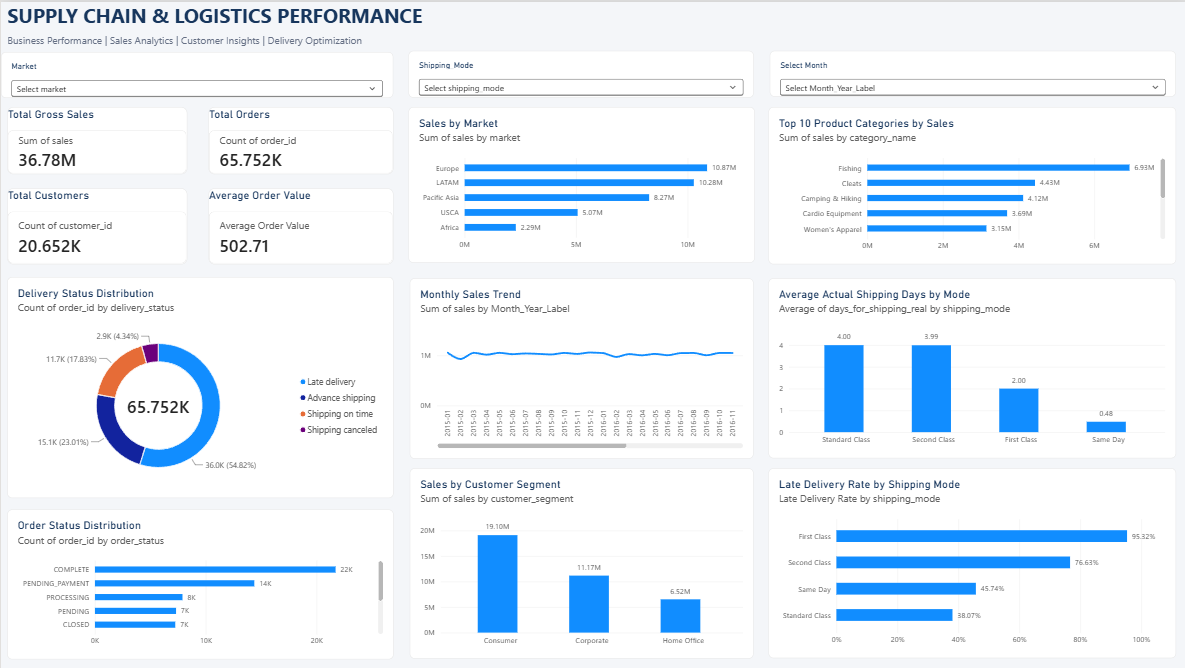

The dashboard page shown, as its layout file describes it:
{"tool":"powerbi","page":{"name":"Executive Overview","canvas":[1920,1080],"ordinal":0},"visuals":[{"type":"textbox","box":[10.3,0,681.3,51.5],"z":0},{"type":"textbox","box":[10.3,51.5,580.4,28.8],"z":1000},{"type":"cardVisual","title":"Total Gross Sales","fields":{"Data":["Sum(supply_chain_analytics supply_chain_orders.sales)"]},"box":[10.1,169.8,291.1,109.2],"z":2000},{"type":"cardVisual","title":"Total Orders","fields":{"Data":["Count(supply_chain_analytics supply_chain_orders.order_id)"]},"box":[335.6,169.8,299.2,109.2],"z":3000},{"type":"cardVisual","title":"Total Customers","fields":{"Data":["Count(supply_chain_analytics supply_chain_orders.customer_id)"]},"box":[10.1,301.2,291.1,123.3],"z":4000},{"type":"cardVisual","title":"Average Order Value","fields":{"Data":["supply_chain_analytics supply_chain_orders.Average Order Value"]},"box":[335.6,301.2,299.2,123.3],"z":5000},{"type":"lineChart","title":"Monthly Sales Trend","fields":{"Category":["supply_chain_analytics supply_chain_orders.Month_Year_Label"],"Y":["Sum(supply_chain_analytics supply_chain_orders.sales)"]},"box":[662,446,556,292],"z":6000},{"type":"clusteredBarChart","title":"Sales by Market","fields":{"Category":["supply_chain_analytics supply_chain_orders.market"],"Y":["Sum(supply_chain_analytics supply_chain_orders.sales)"]},"box":[660,170,560,252],"z":7000},{"type":"clusteredBarChart","title":"Top 10 Product Categories by Sales","fields":{"Category":["supply_chain_analytics supply_chain_orders.category_name"],"Y":["Sum(supply_chain_analytics supply_chain_orders.sales)"]},"box":[1242,170,622,254],"z":8000},{"type":"donutChart","title":"Delivery Status Distribution","fields":{"Category":["supply_chain_analytics supply_chain_orders.delivery_status"],"Y":["Count(supply_chain_analytics supply_chain_orders.order_id)"]},"box":[10,445,625,357.5],"z":9000},{"type":"clusteredColumnChart","title":"Sales by Customer Segment","fields":{"Category":["supply_chain_analytics supply_chain_orders.customer_segment"],"Y":["Sum(supply_chain_analytics supply_chain_orders.sales)"]},"box":[662,754,556,308],"z":10000},{"type":"clusteredColumnChart","title":"Average Actual Shipping Days by Mode","fields":{"Category":["supply_chain_analytics supply_chain_orders.shipping_mode"],"Y":["Avg(supply_chain_analytics supply_chain_orders.days_for_shipping_real)"]},"box":[1242,446,622,292],"z":11000},{"type":"clusteredBarChart","title":"Late Delivery Rate by Shipping Mode","fields":{"Category":["supply_chain_analytics supply_chain_orders.shipping_mode"],"Y":["supply_chain_analytics supply_chain_orders.Late Delivery Rate"]},"box":[1242,754,622,308],"z":12000},{"type":"clusteredBarChart","title":"Order Status Distribution","fields":{"Category":["supply_chain_analytics supply_chain_orders.order_status"],"Y":["Count(supply_chain_analytics supply_chain_orders.order_id)"]},"box":[10,820,625,242.5],"z":13000},{"type":"listSlicer","title":"Market","fields":{"Values":["supply_chain_analytics supply_chain_orders.market"]},"box":[0,80,634,74],"z":14000},{"type":"listSlicer","title":"Shipping_Mode","fields":{"Values":["supply_chain_analytics supply_chain_orders.shipping_mode"]},"box":[660,78,558,76],"z":15000},{"type":"listSlicer","title":"Select Month","fields":{"Values":["supply_chain_analytics supply_chain_orders.Month_Year_Label"]},"box":[1244,78,622,76],"z":16000}]}

Visuals, with their boxes in screenshot pixels (x1, y1, x2, y2), scaled from the page's 1920x1080 canvas onto the 1185x668 screenshot:
textbox: detection(6, 0, 427, 32)
textbox: detection(6, 32, 365, 50)
"Total Gross Sales" cardVisual: detection(6, 105, 186, 173)
"Total Orders" cardVisual: detection(207, 105, 392, 173)
"Total Customers" cardVisual: detection(6, 186, 186, 263)
"Average Order Value" cardVisual: detection(207, 186, 392, 263)
"Monthly Sales Trend" lineChart: detection(409, 276, 752, 456)
"Sales by Market" clusteredBarChart: detection(407, 105, 753, 261)
"Top 10 Product Categories by Sales" clusteredBarChart: detection(767, 105, 1150, 262)
"Delivery Status Distribution" donutChart: detection(6, 275, 392, 496)
"Sales by Customer Segment" clusteredColumnChart: detection(409, 466, 752, 657)
"Average Actual Shipping Days by Mode" clusteredColumnChart: detection(767, 276, 1150, 456)
"Late Delivery Rate by Shipping Mode" clusteredBarChart: detection(767, 466, 1150, 657)
"Order Status Distribution" clusteredBarChart: detection(6, 507, 392, 657)
"Market" listSlicer: detection(0, 49, 391, 95)
"Shipping_Mode" listSlicer: detection(407, 48, 752, 95)
"Select Month" listSlicer: detection(768, 48, 1152, 95)
